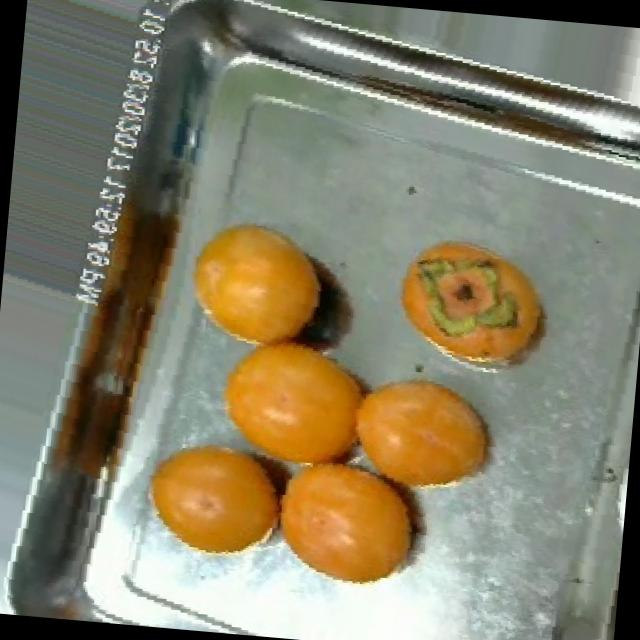Fruit: (249, 438, 443, 604), (378, 220, 566, 386), (121, 418, 308, 577), (168, 200, 346, 363), (337, 358, 515, 512)
